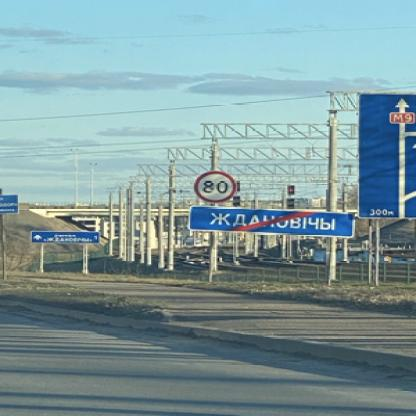Speed Limit 80: (194, 170, 236, 203)
